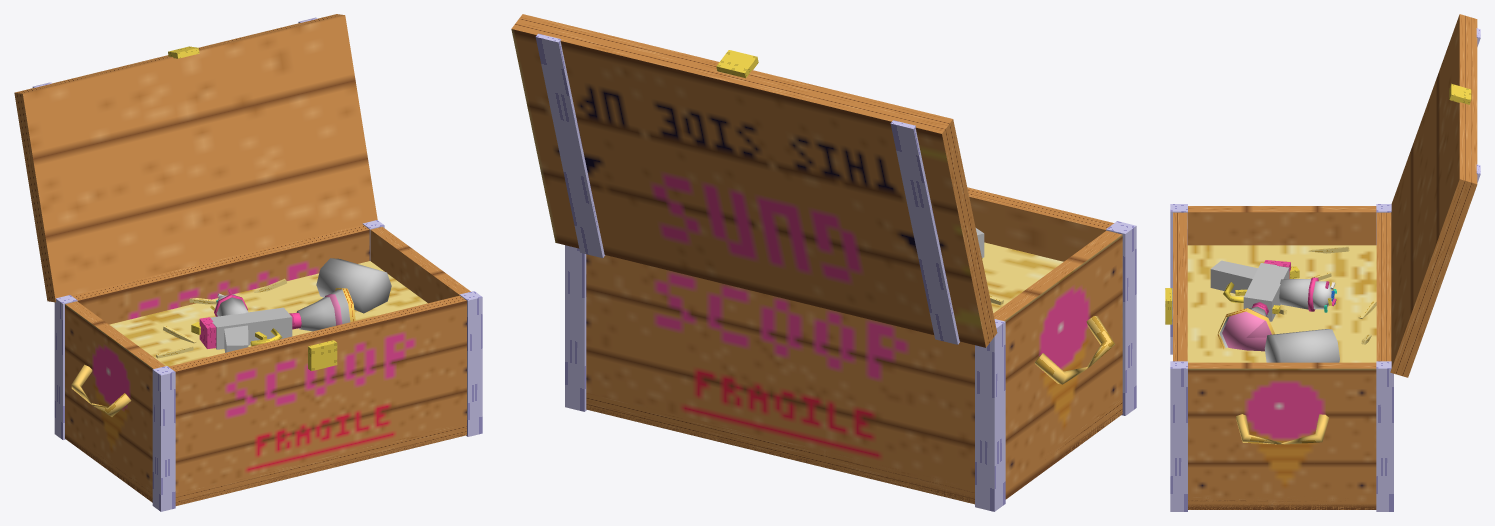
The model's file is Gun Crate Open.fbx.
The picture shows the model from 3 angles, left to right: view 1: azimuth 30°, elevation 25°; view 2: azimuth 150°, elevation 25°; view 3: azimuth 270°, elevation 25°; orthographic projection. The views are drawn at different scales.
Parts seen in each view (by area): view 1: Gun Crate Open lid, Gun Crate Open wall -1, Gun Crate Open end -1, Gun Crate Open wall 1, Gun Crate Open straw bed, Gun Crate Open floor, Gun Crate Open end 1, Gun Crate Open corner -1-1, Gun Crate Open spare pint 0.001, Gun Crate Open corner 1-1, Gun Crate Open body, Gun Crate Open corner -11 (+4 smaller); view 2: Gun Crate Open lid, Gun Crate Open wall 1, Gun Crate Open end -1, Gun Crate Open floor, Gun Crate Open wall -1, Gun Crate Open lid band -1, Gun Crate Open lid band 1, Gun Crate Open corner -11, Gun Crate Open corner 11, Gun Crate Open corner -1-1, Gun Crate Open straw bed, Gun Crate Open handle -1 (+1 smaller); view 3: Gun Crate Open end 1, Gun Crate Open lid, Gun Crate Open straw bed, Gun Crate Open end -1, Gun Crate Open corner 1-1, Gun Crate Open corner 11, Gun Crate Open wall 1, Gun Crate Open spare pint 0.001, Gun Crate Open wall -1, Gun Crate Open loaded scoop, Gun Crate Open body, Gun Crate Open floor (+6 smaller).
Part boxes in pixels (left/top/right/bottom): Gun Crate Open lid: left=14, top=14, right=377, bottom=302; Gun Crate Open wall -1: left=169, top=295, right=466, bottom=505; Gun Crate Open end -1: left=65, top=301, right=165, bottom=502; Gun Crate Open wall 1: left=72, top=224, right=369, bottom=324; Gun Crate Open straw bed: left=109, top=261, right=427, bottom=366; Gun Crate Open floor: left=66, top=422, right=466, bottom=505; Gun Crate Open end 1: left=370, top=227, right=470, bottom=303; Gun Crate Open corner -1-1: left=152, top=366, right=175, bottom=511; Gun Crate Open spare pint 0.001: left=316, top=258, right=391, bottom=313; Gun Crate Open corner 1-1: left=459, top=291, right=482, bottom=436; Gun Crate Open body: left=210, top=307, right=292, bottom=349; Gun Crate Open corner -11: left=54, top=295, right=77, bottom=439; Gun Crate Open lid: left=511, top=14, right=997, bottom=347; Gun Crate Open wall 1: left=586, top=254, right=974, bottom=503; Gun Crate Open end -1: left=993, top=230, right=1122, bottom=499; Gun Crate Open floor: left=586, top=393, right=1122, bottom=504; Gun Crate Open wall -1: left=967, top=187, right=1113, bottom=261; Gun Crate Open lid band -1: left=890, top=120, right=959, bottom=344; Gun Crate Open lid band 1: left=535, top=33, right=605, bottom=258; Gun Crate Open corner -11: left=975, top=319, right=1005, bottom=511; Gun Crate Open corner 11: left=565, top=245, right=586, bottom=411; Gun Crate Open corner -1-1: left=1106, top=221, right=1136, bottom=415; Gun Crate Open straw bed: left=982, top=242, right=1063, bottom=312; Gun Crate Open handle -1: left=1034, top=316, right=1115, bottom=384; Gun Crate Open end 1: left=1188, top=362, right=1376, bottom=509; Gun Crate Open lid: left=1390, top=14, right=1477, bottom=377; Gun Crate Open straw bed: left=1187, top=245, right=1376, bottom=362; Gun Crate Open end -1: left=1188, top=206, right=1376, bottom=245; Gun Crate Open corner 1-1: left=1170, top=361, right=1187, bottom=511; Gun Crate Open corner 11: left=1376, top=361, right=1393, bottom=511; Gun Crate Open wall 1: left=1376, top=212, right=1391, bottom=361; Gun Crate Open spare pint 0.001: left=1264, top=329, right=1339, bottom=362; Gun Crate Open wall -1: left=1173, top=212, right=1187, bottom=361; Gun Crate Open loaded scoop: left=1222, top=309, right=1271, bottom=351; Gun Crate Open body: left=1243, top=263, right=1289, bottom=321; Gun Crate Open floor: left=1188, top=496, right=1375, bottom=509.
Size of the model in its own units: 0.8363 by 0.7228 by 0.6072.
